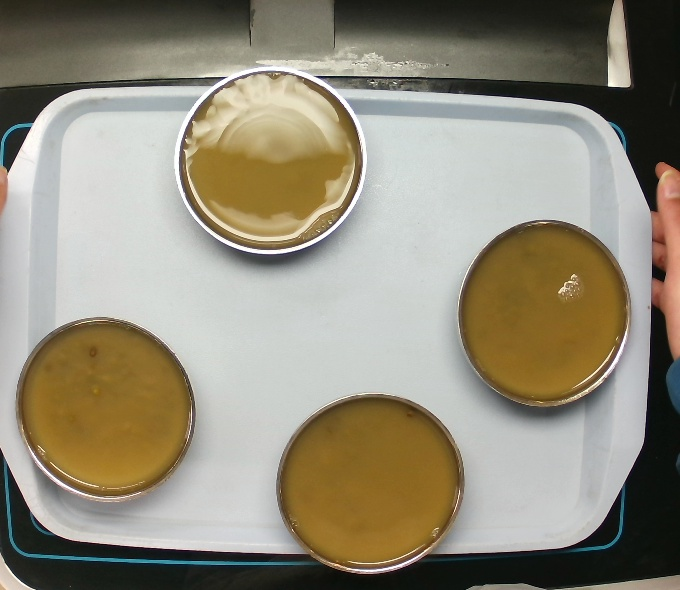wcq-LvDouTang: (175, 71, 361, 251), (276, 395, 462, 569), (459, 220, 629, 403), (16, 318, 193, 492)
